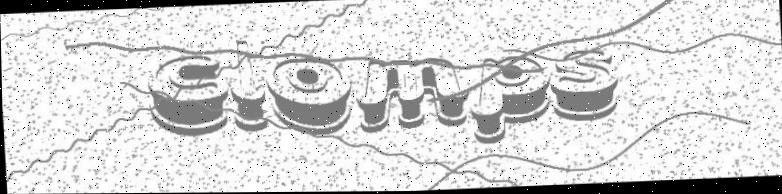c: (144, 51, 231, 139)
l: (227, 37, 269, 134)
m: (354, 56, 470, 135)
o: (264, 54, 355, 138)
p: (467, 54, 553, 146)
s: (547, 48, 620, 124)
